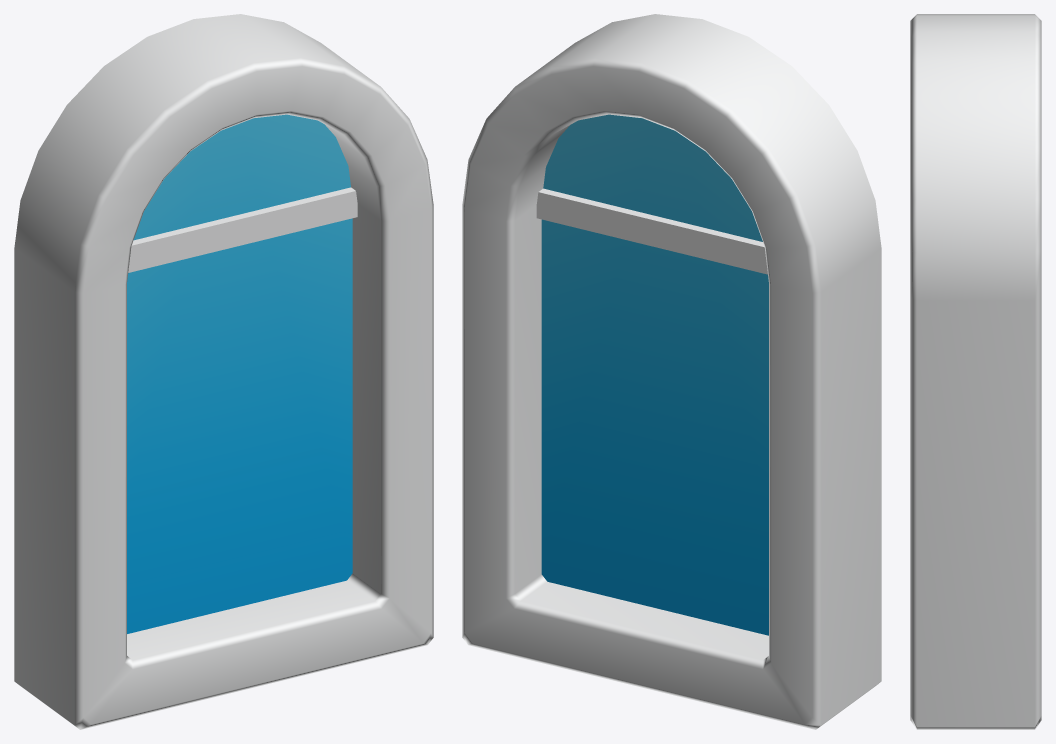
The model's file is Window_White_18.glb.
3 renders of one model, left to right at view 1: azimuth 30°, elevation 25°; view 2: azimuth 150°, elevation 25°; view 3: azimuth 270°, elevation 25°, orthographic.
Parts seen in each view (by area): view 1: Window_White_18; view 2: Window_White_18; view 3: Window_White_18.
Boxes of the visible parts, bbox=[...] form: Window_White_18: bbox=[14, 14, 433, 729]; Window_White_18: bbox=[462, 14, 881, 729]; Window_White_18: bbox=[910, 14, 1041, 729].
Size of the model in its own units: 1.24 by 2.07 by 0.4.
2 materials, 2 textured.
